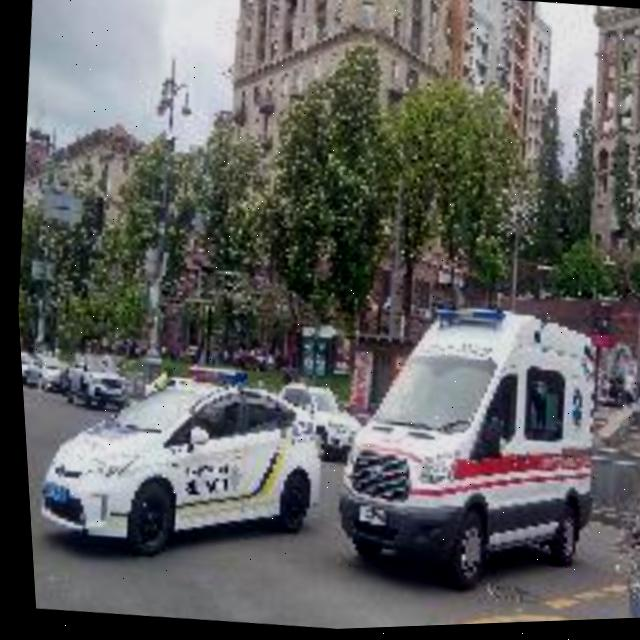emergency: (310, 287, 615, 612), (23, 344, 334, 578)
